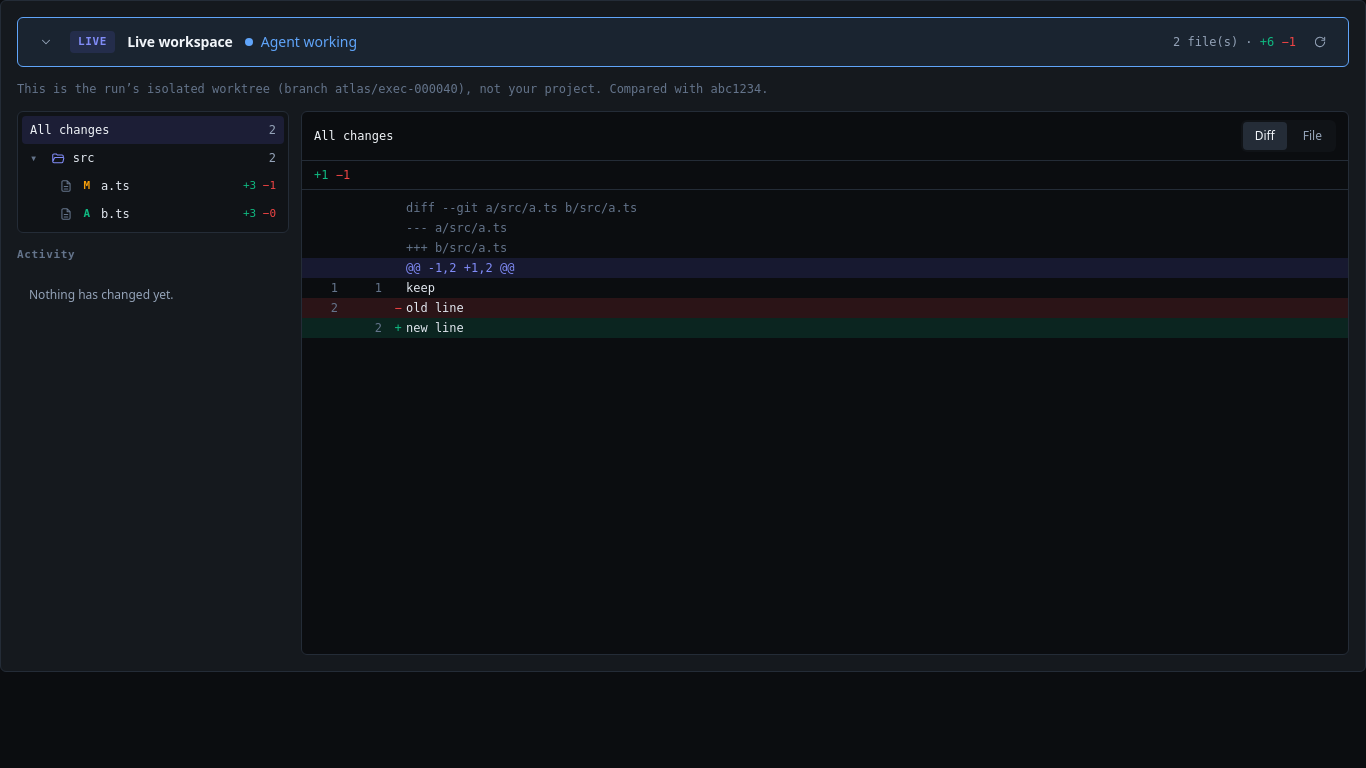
Test: the live workspace: events › refreshes when asked to
Click the button named "Refresh".
click(1320, 42)  # box [1308,30,1332,54]
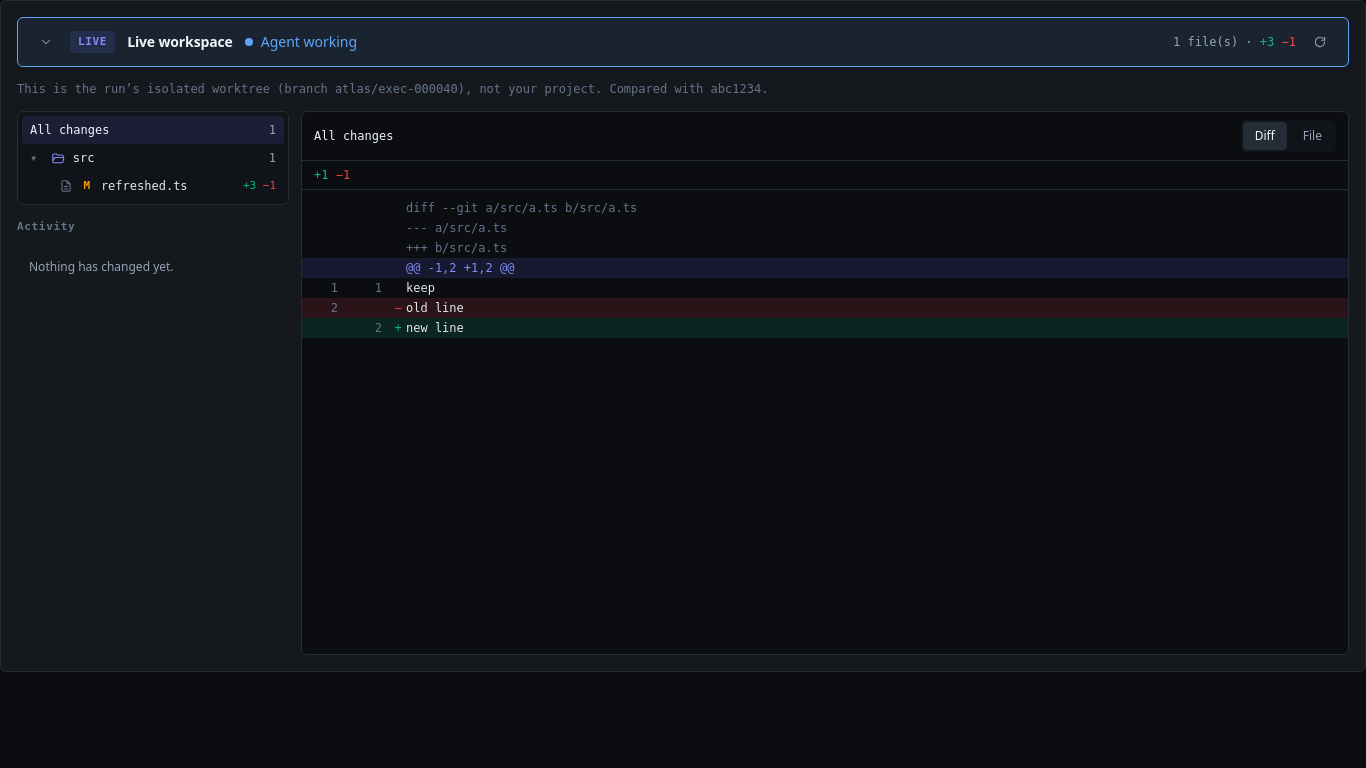
Check: the button with aria-label "src/refreshed.ts (Modified)" is shown, box [22,172,284,200]
